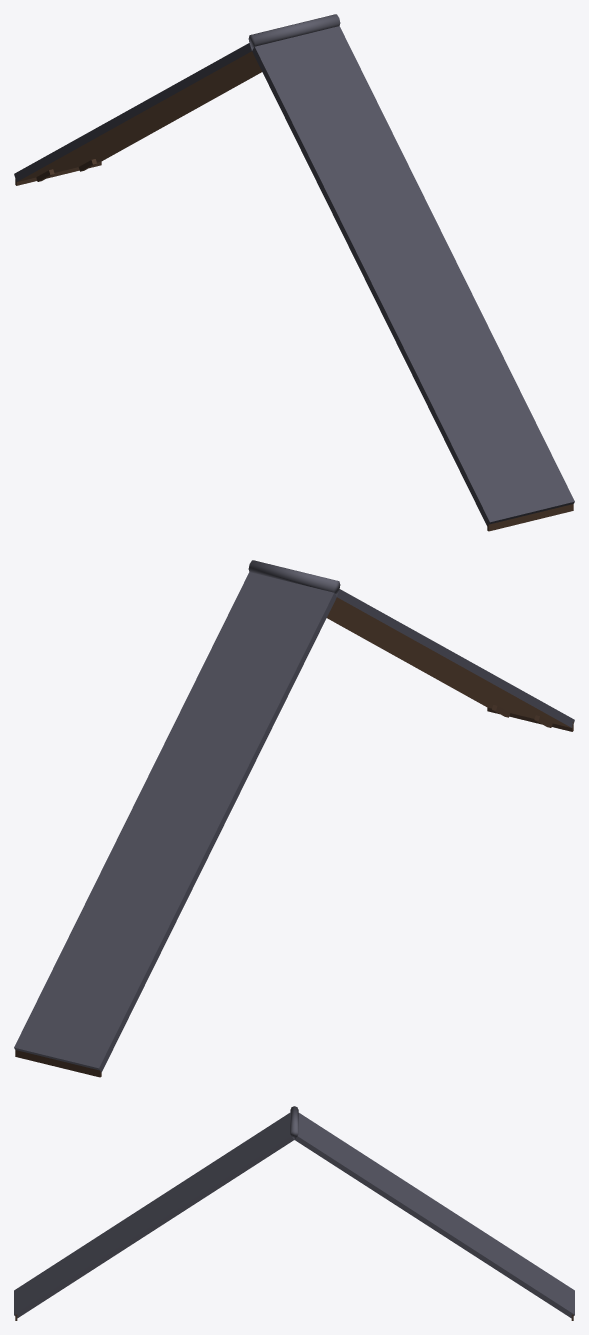
The model's file is kit_church_slate_w9.glb.
The picture shows the model from 3 angles, top to bottom: view 1: azimuth 30°, elevation 25°; view 2: azimuth 150°, elevation 25°; view 3: azimuth 270°, elevation 25°; orthographic projection. The views are drawn at different scales.
Visible parts, largest first — view 1: kit_church_slate_w9; view 2: kit_church_slate_w9; view 3: kit_church_slate_w9.
Boxes of the visible parts, x1,y1,x2,y2 form: kit_church_slate_w9: (14,14,574,531); kit_church_slate_w9: (14,560,574,1077); kit_church_slate_w9: (14,1106,574,1320).
Size of the model in its own units: 1 by 3.63 by 9.7.
